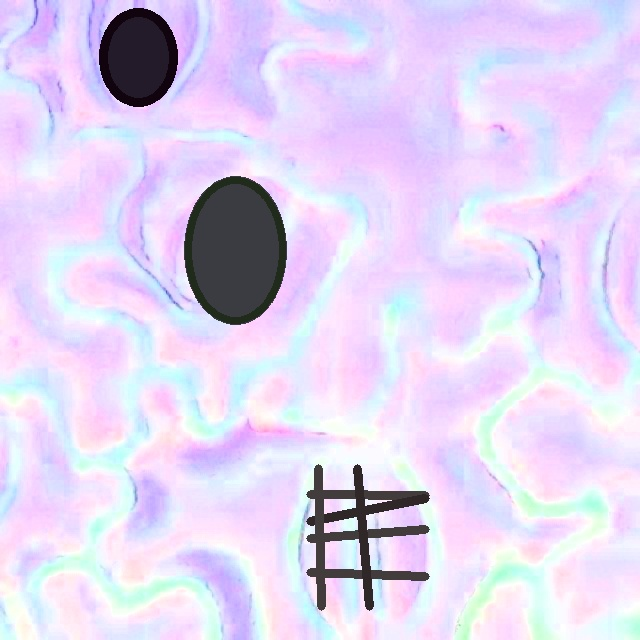open: (306, 464, 429, 610), (184, 176, 286, 325), (99, 8, 177, 106)
